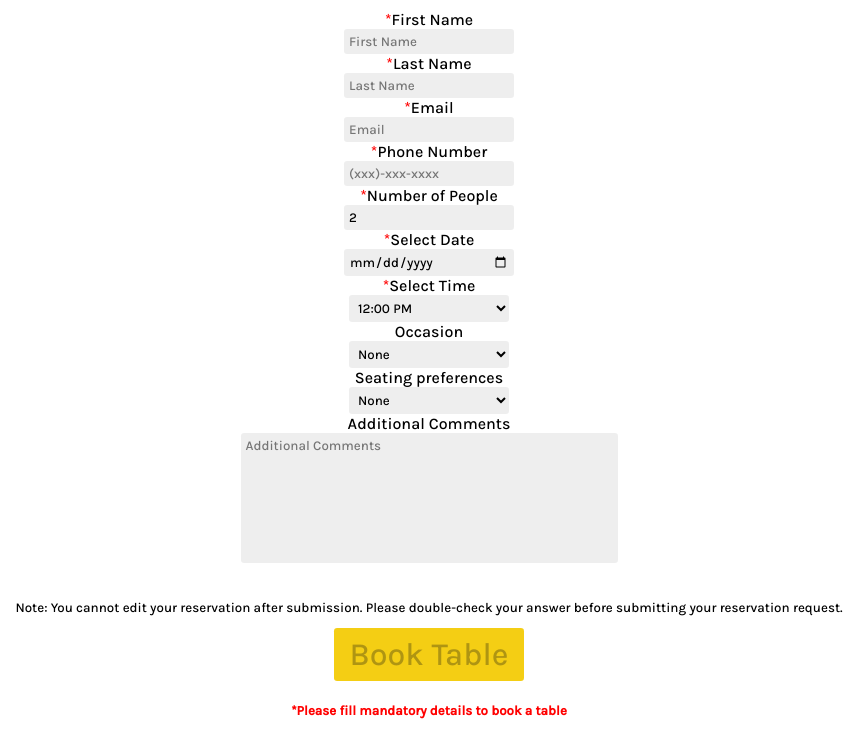
Test: ReservationForm › enables submit button when all fields are filled
The width and height of the screenshot is (860, 736).
Fill in form fields
Type "John" into the field labelled "First Name" at (429, 42), box [344,29,514,54]
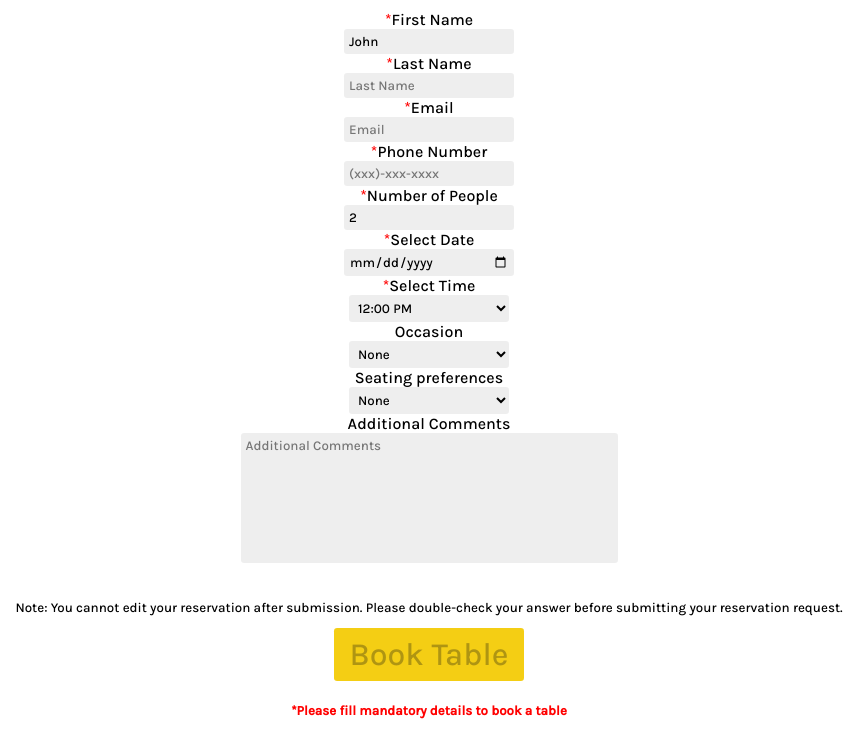
Type "Doe" into the field labelled "Last Name" at (429, 86), box [344,73,514,98]
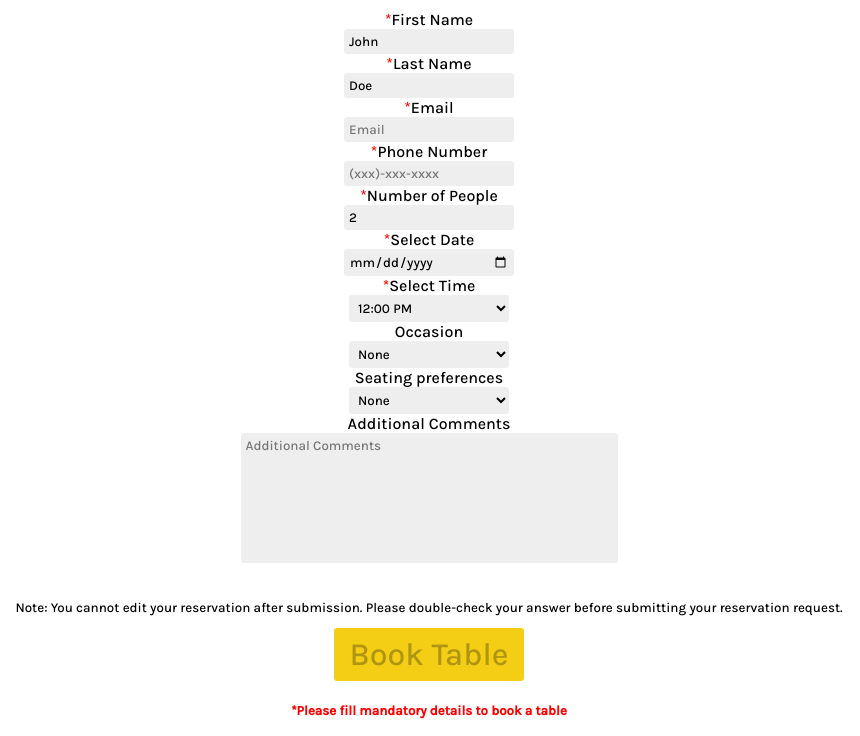
Type "john@example.com" into the field labelled "Email" at (429, 130), box [344,117,514,142]
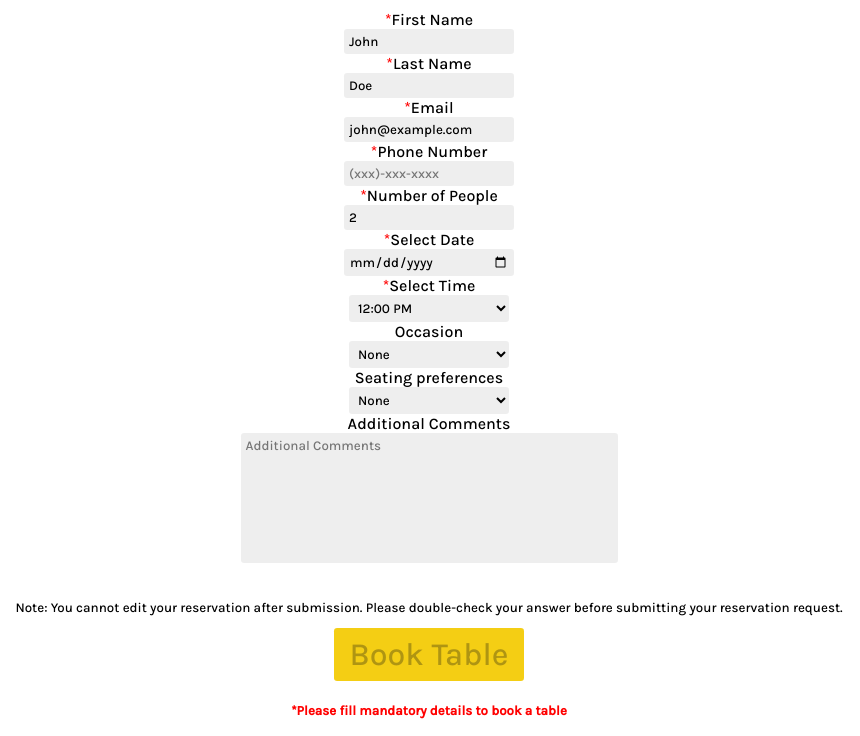
Type "(123)-456-7890" into the field labelled "Phone Number" at (429, 174), box [344,161,514,186]
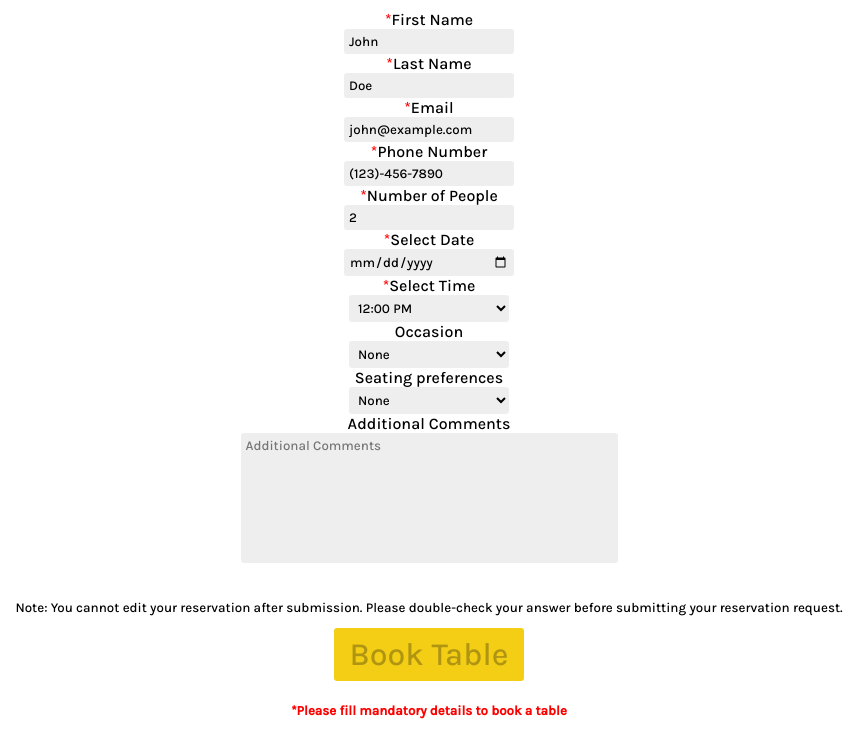
Replace the text in the number field labelled "Number of People" with "4" at (429, 218), box [344,205,514,230]
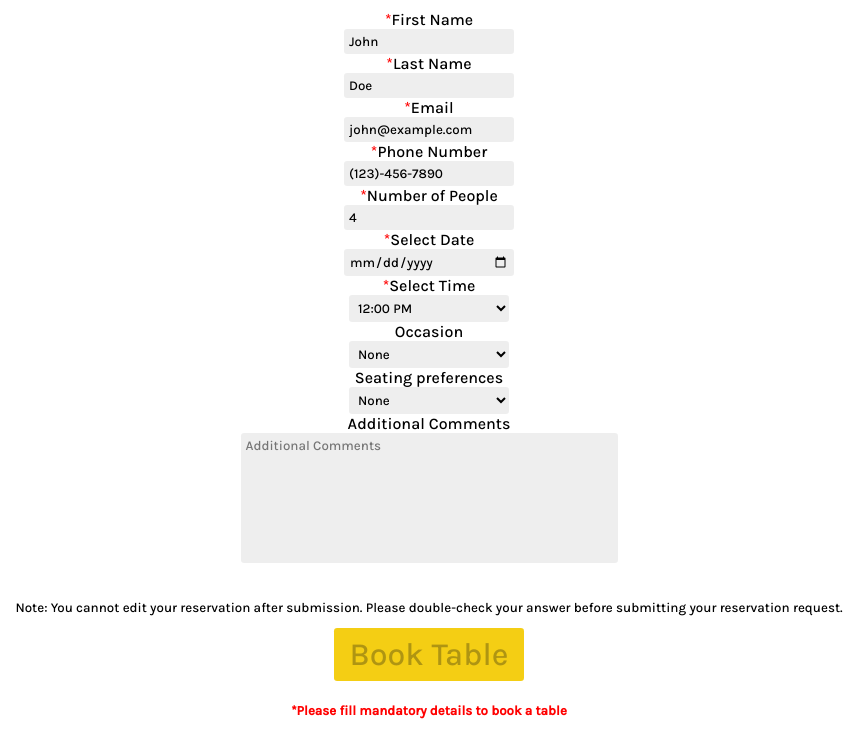
Type "2025-02-15" into the date field labelled "Select Date" at (429, 263), box [344,249,514,276]
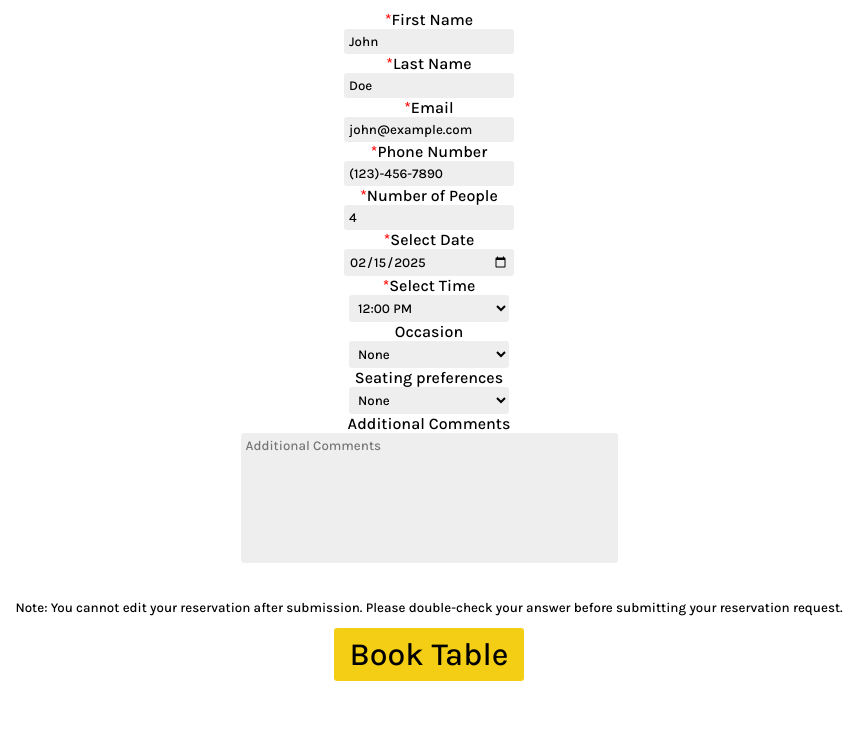
expect the button "Book Table" is enabled: met, box [334,628,524,681]
